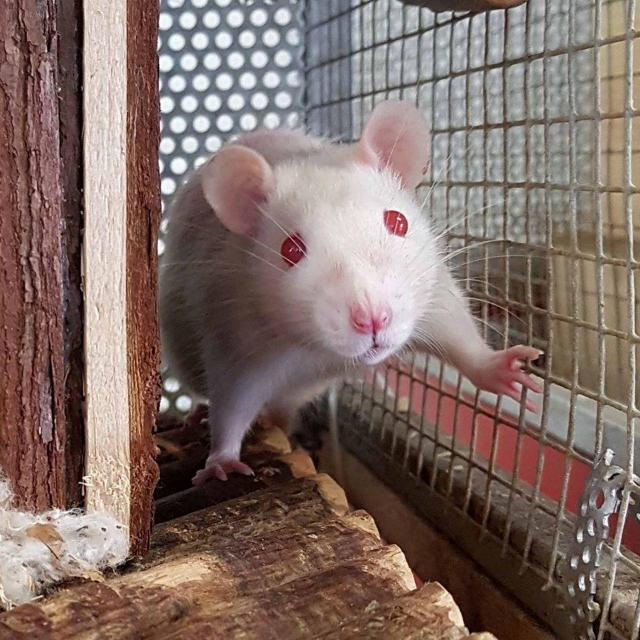rat: (143, 92, 549, 484)
